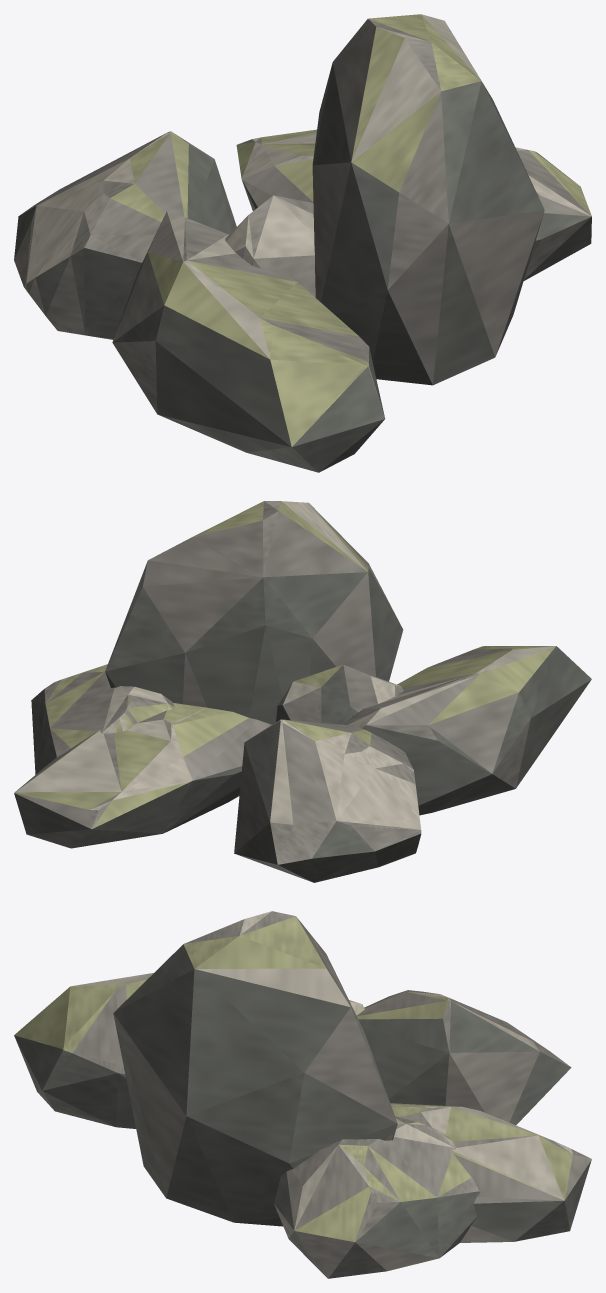
The model's file is rock_cluster_02.fbx.
3 views of the same model, one above another, from view 1: azimuth 30°, elevation 25°; view 2: azimuth 150°, elevation 25°; view 3: azimuth 270°, elevation 25° (orthographic). The views are drawn at different scales.
Visible parts, largest first — view 1: rock_cluster_02; view 2: rock_cluster_02; view 3: rock_cluster_02.
Boxes of the visible parts, <box> form: rock_cluster_02: <box>14,14,591,472</box>; rock_cluster_02: <box>14,501,591,882</box>; rock_cluster_02: <box>14,911,591,1278</box>.
Size of the model in its own units: 3.42 by 1.91 by 3.81.
